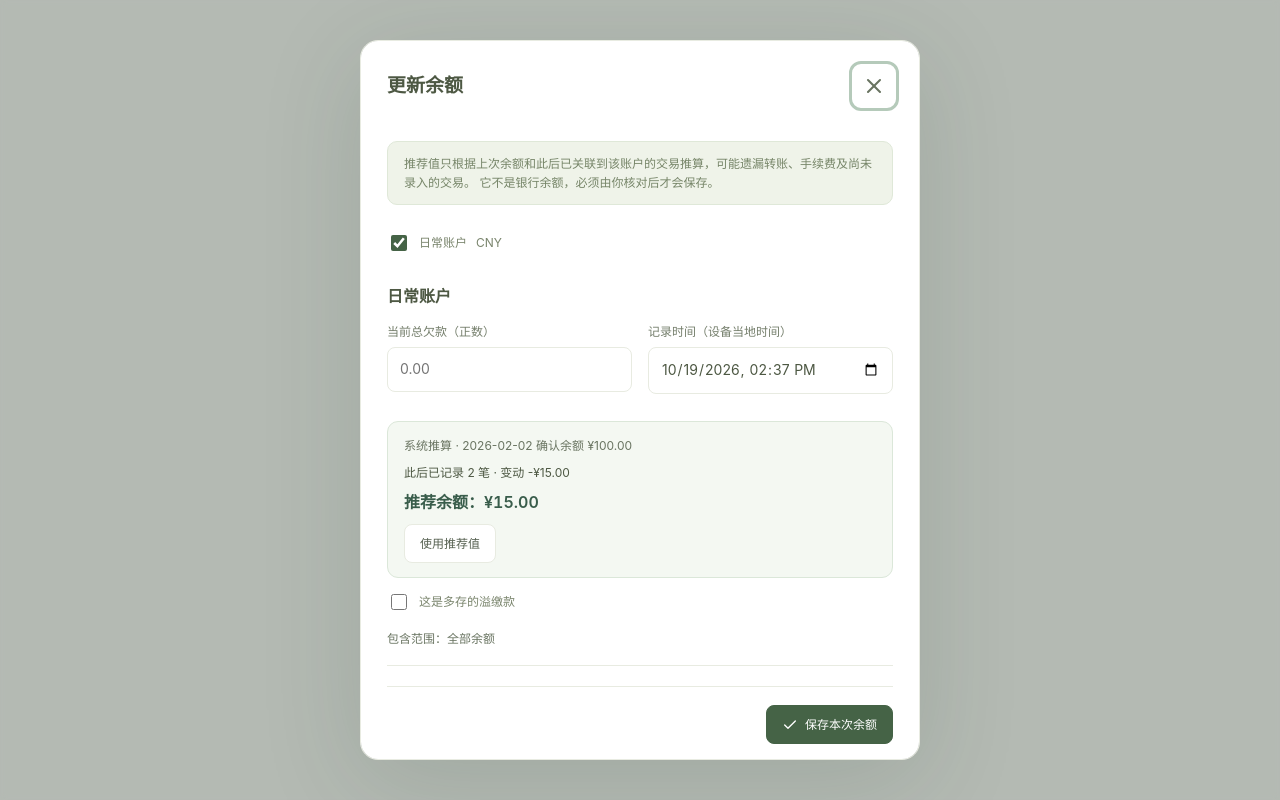
Scenario: preserves credit CNY signed estimate 15.00 on explicit use
Check: the field labelled "当前总欠款（正数）" is empty, box [387,347,632,392]
Click the button "使用推荐值": [450, 543] box [404,524,496,563]
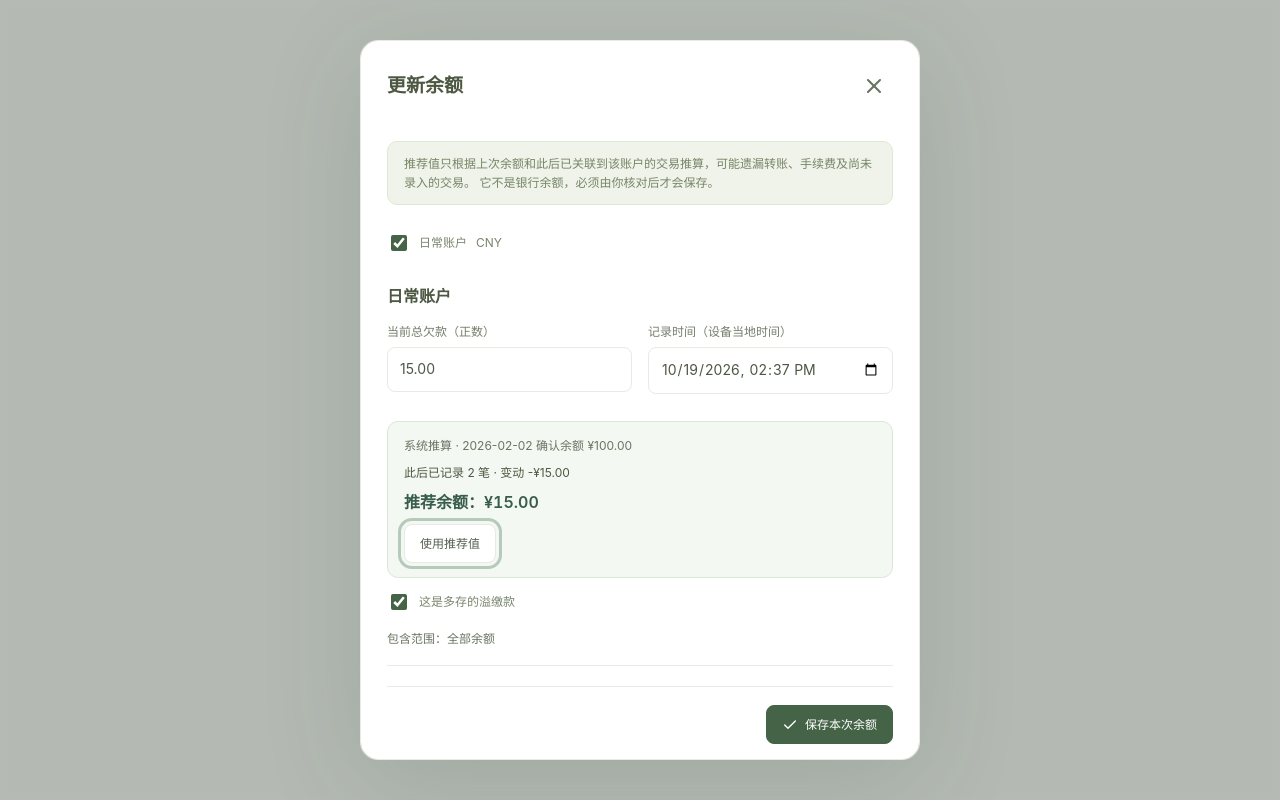
Check: the field labelled "当前总欠款（正数）" holds "15.00", box [387,347,632,392]
Check: the checkbox labelled "这是多存的溢缴款" is checked, box [391,594,407,610]
